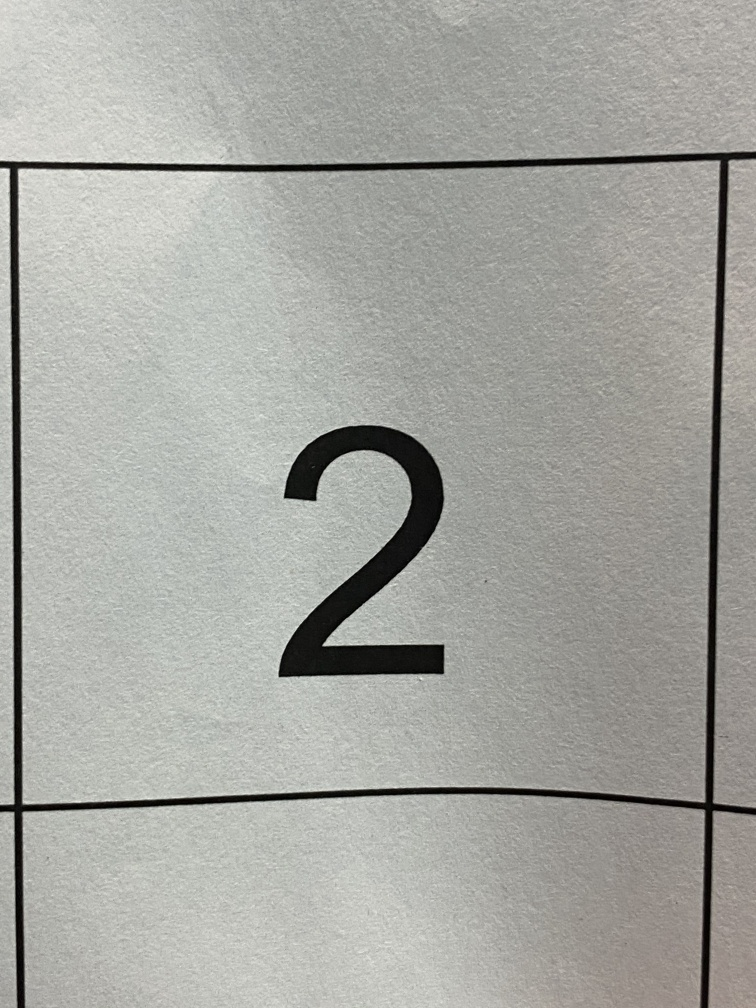two: (231, 376, 512, 756)
